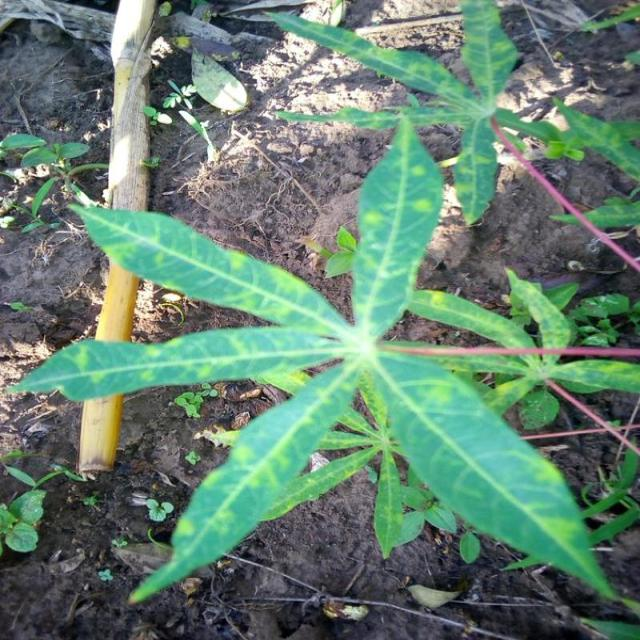cassava leaf: (11, 112, 636, 615)
